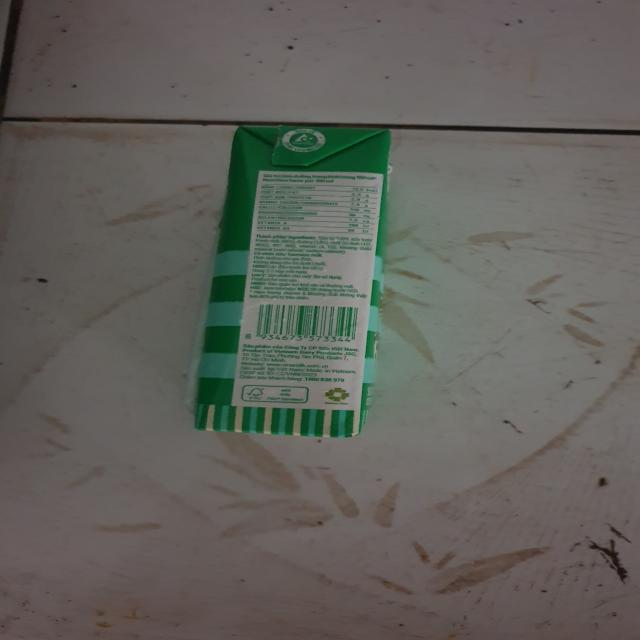Vina: (186, 120, 403, 442)
